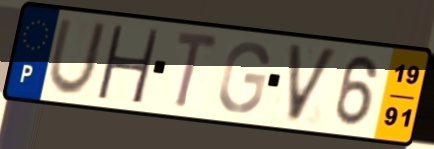6: (334, 52, 381, 129)
G: (215, 40, 271, 116)
H: (93, 22, 162, 106)
T: (172, 28, 222, 112)
U: (45, 17, 110, 98)
V: (286, 41, 341, 126)
